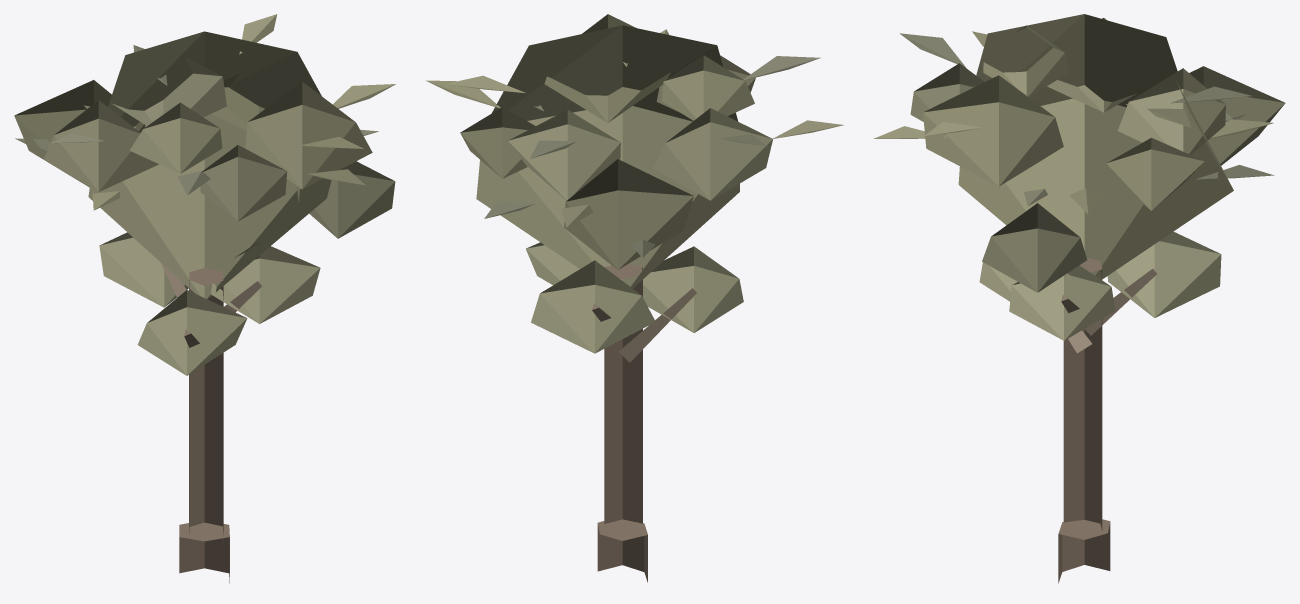
File: shu.yinxing@subadult__winter.glb
3 views of the same model, side by side, from view 1: azimuth 30°, elevation 25°; view 2: azimuth 150°, elevation 25°; view 3: azimuth 270°, elevation 25° (orthographic). The views are drawn at different scales.
Parts seen in each view (by area): view 1: shu.yinxing@subadult__winter; view 2: shu.yinxing@subadult__winter; view 3: shu.yinxing@subadult__winter.
Boxes of the visible parts, left/top/right/bottom form: shu.yinxing@subadult__winter: left=14, top=14, right=395, bottom=583; shu.yinxing@subadult__winter: left=426, top=14, right=843, bottom=582; shu.yinxing@subadult__winter: left=873, top=14, right=1285, bottom=583.
Bounding box in the file's own units: 5.46 × 7.89 × 5.26.
